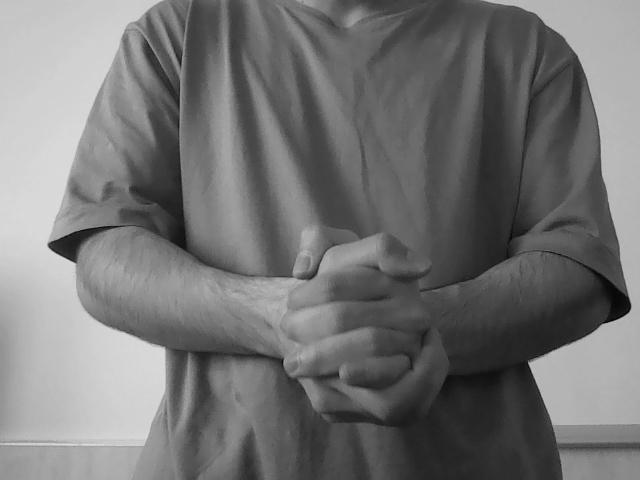friend: (272, 222, 461, 429)
